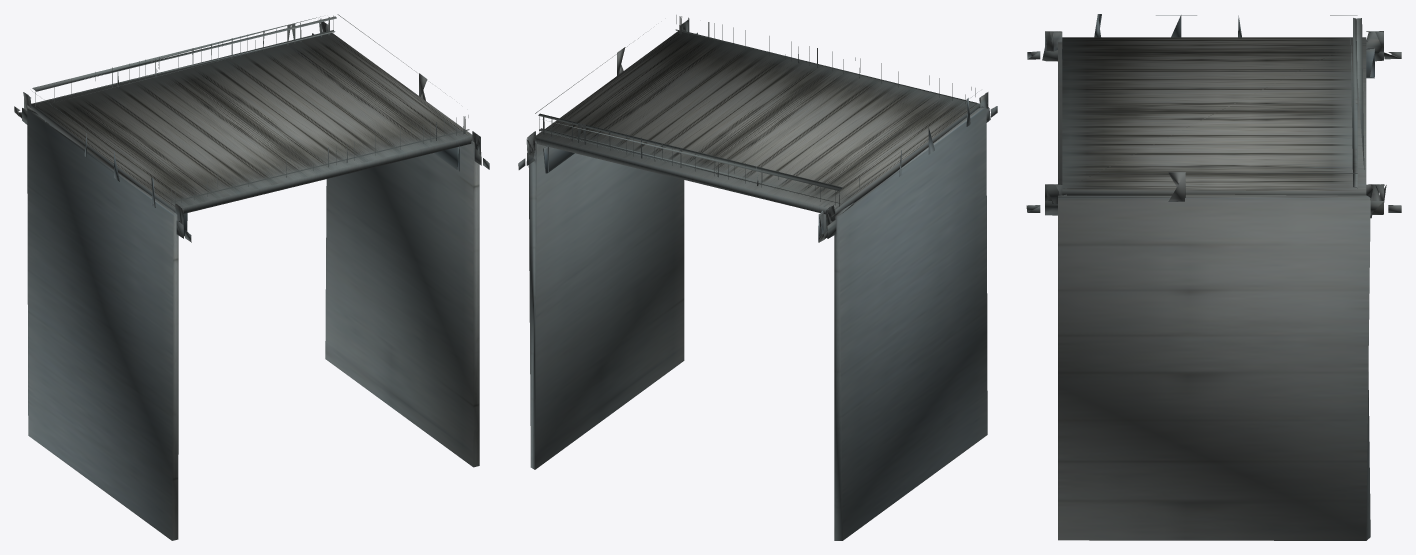
File: terrain-bridge.glb
The picture shows the model from 3 angles, left to right: view 1: azimuth 30°, elevation 25°; view 2: azimuth 150°, elevation 25°; view 3: azimuth 270°, elevation 25°; orthographic projection. The views are drawn at different scales.
Visible parts, largest first — view 1: terrain-bridge; view 2: terrain-bridge; view 3: terrain-bridge.
Part boxes in pixels (x1,y1,x2,y2): terrain-bridge: [14, 14, 489, 540]; terrain-bridge: [518, 15, 997, 540]; terrain-bridge: [1026, 14, 1401, 540].
Bounding box in the file's own units: 0.9 × 0.98 × 0.9.
1 material, 1 textured.
